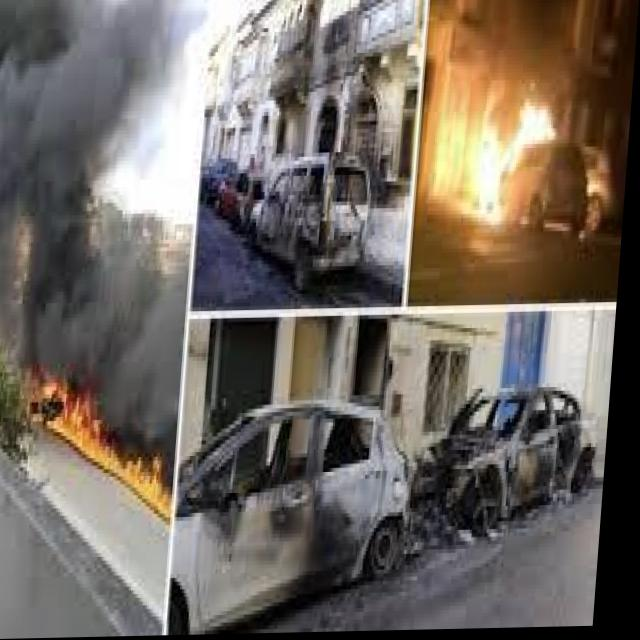fire: (23, 351, 184, 525), (472, 88, 619, 243)
